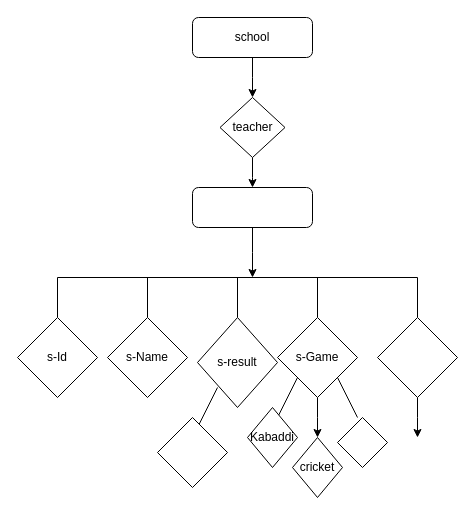
This 475x515 diagram has some shape labels left out. Here are the shapes that lost their labels. From the top down, the box of each, then its label:
(192, 186, 312, 228): Student
(376, 316, 458, 398): s-Book
(156, 416, 228, 488): IA-Marks
(336, 416, 388, 468): Kho-Kho
